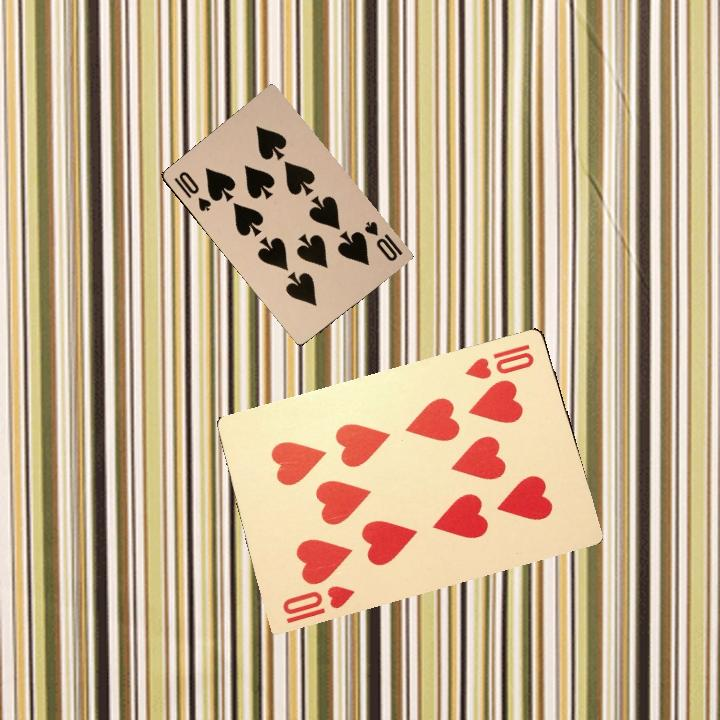10h: (278, 581, 356, 626), (461, 339, 537, 382)
10s: (360, 217, 405, 264), (170, 167, 214, 214)
